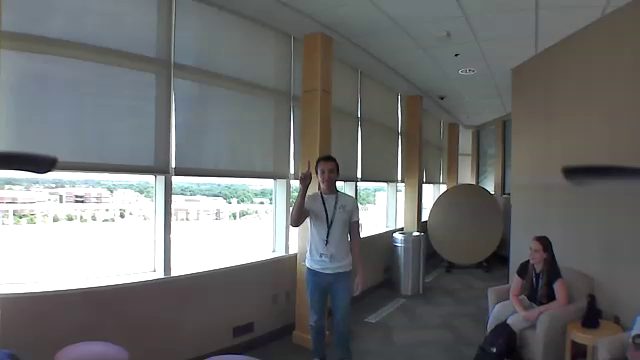up: (293, 160, 317, 191)
